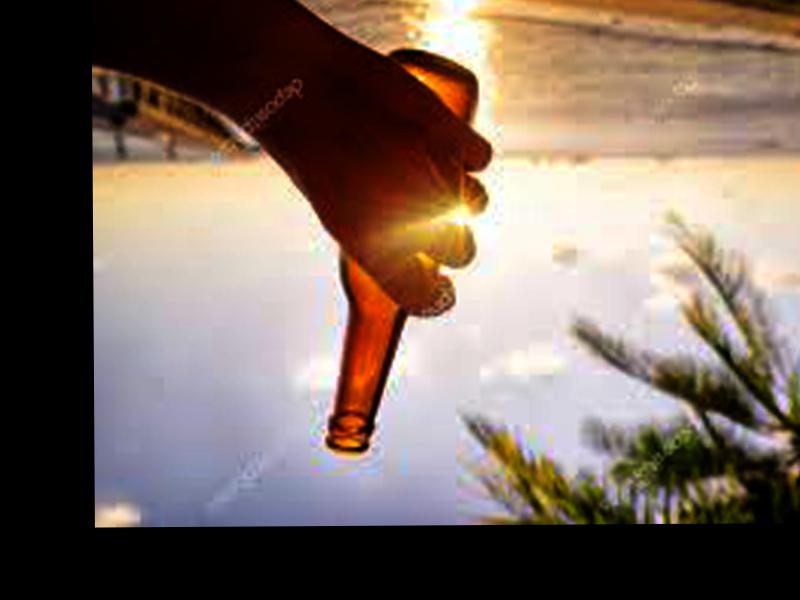Beer: (322, 49, 480, 453)
